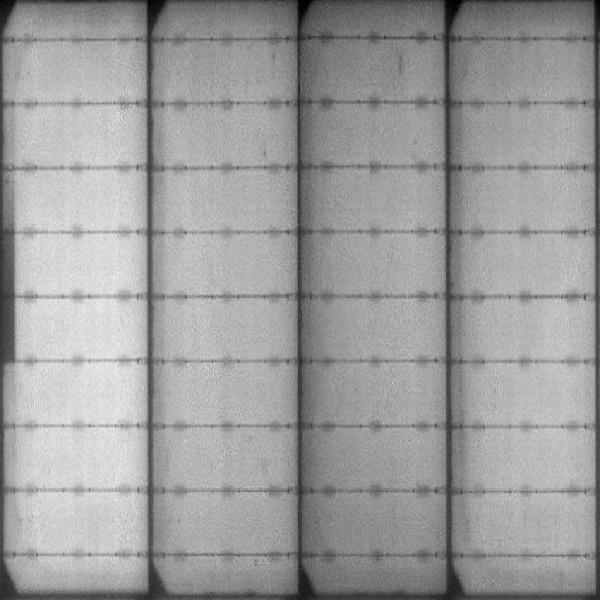black_border: (1, 174, 20, 366)
